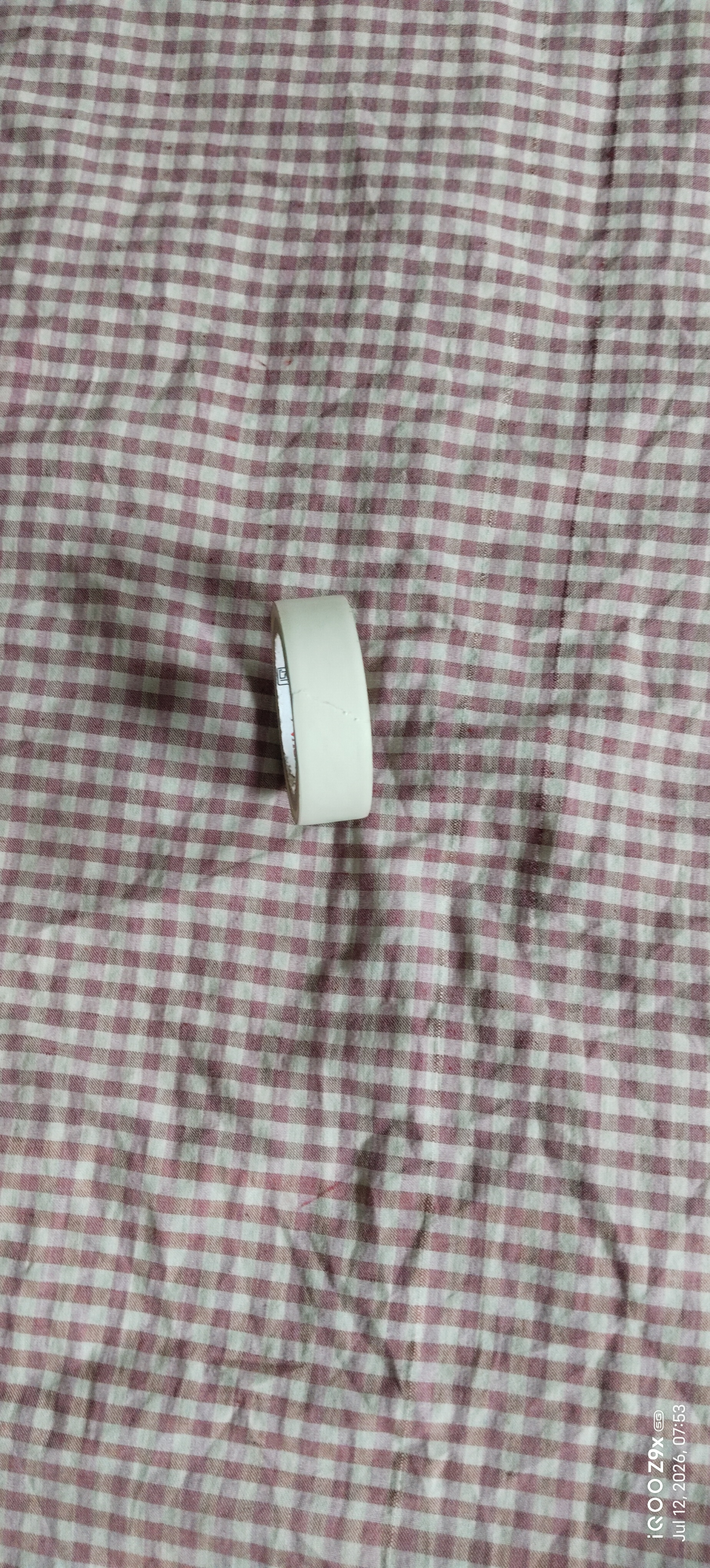tape_roll: (235, 559, 411, 870)
